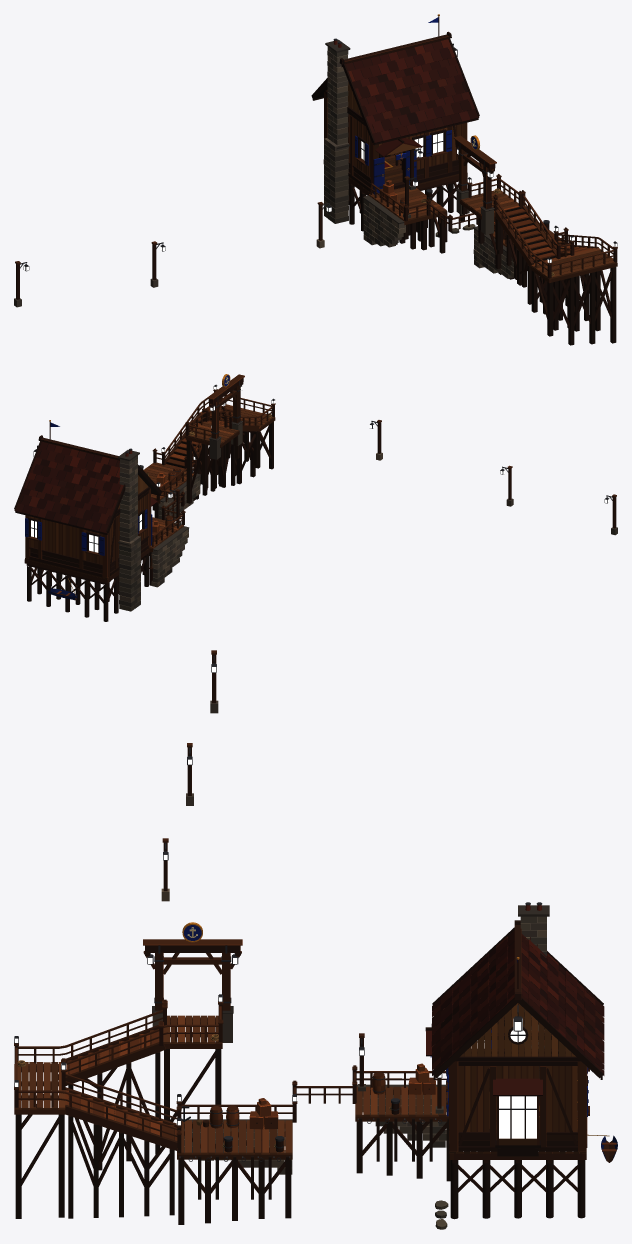
File: wyrmwatch_harbor_source.glb
The picture shows the model from 3 angles, top to bottom: view 1: azimuth 30°, elevation 25°; view 2: azimuth 150°, elevation 25°; view 3: azimuth 270°, elevation 25°; orthographic projection. The views are drawn at different scales.
Visible parts, largest first — view 1: HouseRoof, Landings, HouseWallWest, QuayDecks, Railings, StairFlights, HouseWallSouth, HouseFrame, HarborGate, Lanterns; view 2: HouseRoof, HouseWallWest, HouseFrame, HouseWallNorth, Landings, QuayDecks, Railings, StairFlights, HarborGate, Lanterns, Cargo; view 3: HouseWallEast, HouseRoof, QuayDecks, StairFlights, Landings, Railings, HouseFrame, HarborGate, HarborTrim, Cargo, Lanterns, HouseWallWest.
Part boxes in pixels (x1,y1,x2,y2): HouseRoof: [311, 14, 479, 145]; Landings: [460, 190, 617, 345]; HouseWallWest: [324, 38, 370, 223]; QuayDecks: [363, 187, 564, 285]; Railings: [370, 174, 617, 278]; StairFlights: [495, 205, 598, 327]; HouseWallSouth: [373, 124, 461, 194]; HouseFrame: [323, 90, 467, 232]; HarborGate: [453, 135, 496, 234]; Lanterns: [14, 148, 617, 307]; HouseRoof: [14, 420, 161, 534]; HouseWallWest: [110, 448, 149, 611]; HouseFrame: [24, 487, 150, 621]; HouseWallNorth: [25, 516, 104, 576]; Landings: [185, 404, 275, 503]; QuayDecks: [141, 462, 200, 587]; Railings: [149, 389, 275, 580]; StairFlights: [164, 413, 259, 499]; HarborGate: [207, 374, 244, 459]; Lanterns: [156, 384, 617, 535]; Cargo: [139, 465, 181, 542]; HouseWallEast: [455, 1003, 580, 1156]; HouseRoof: [431, 920, 604, 1079]; QuayDecks: [177, 1084, 450, 1224]; StairFlights: [65, 1025, 177, 1218]; Landings: [14, 1015, 222, 1218]; Railings: [14, 999, 446, 1153]; HouseFrame: [449, 997, 586, 1219]; HarborGate: [143, 922, 242, 1042]; HarborTrim: [154, 945, 450, 1199]; Cargo: [209, 1067, 435, 1152]; Lanterns: [14, 650, 443, 1125]; HouseWallWest: [477, 902, 565, 1091].
Size of the model in its own units: 61.32 by 20.6 by 42.33.
